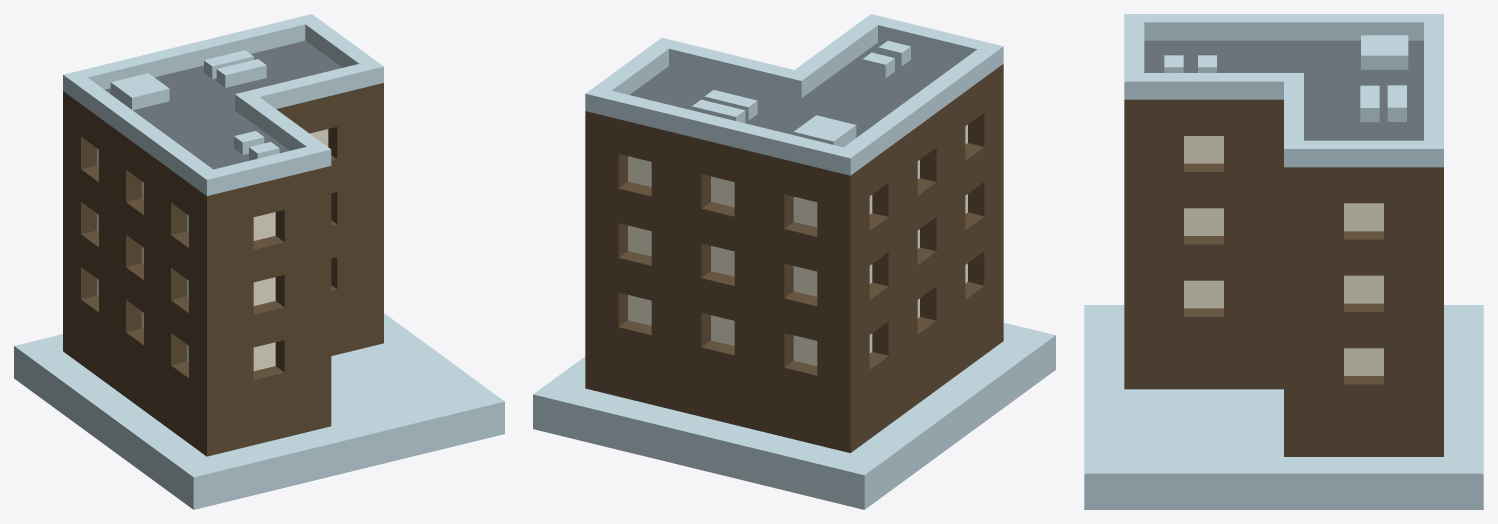
Rendered from Building_3_Base_Extra (Brown).obj.
3 renders of one model, left to right at view 1: azimuth 30°, elevation 25°; view 2: azimuth 150°, elevation 25°; view 3: azimuth 270°, elevation 25°, orthographic. The views are drawn at different scales.
Visible parts, largest first — view 1: Building_3_Base_Extra_(Brown); view 2: Building_3_Base_Extra_(Brown); view 3: Building_3_Base_Extra_(Brown).
Boxes of the visible parts, x1,y1,x2,y2 form: Building_3_Base_Extra_(Brown): [14, 14, 504, 509]; Building_3_Base_Extra_(Brown): [533, 14, 1055, 509]; Building_3_Base_Extra_(Brown): [1084, 14, 1483, 509].
Bounding box in the file's own units: 2 × 1.9 × 2.
